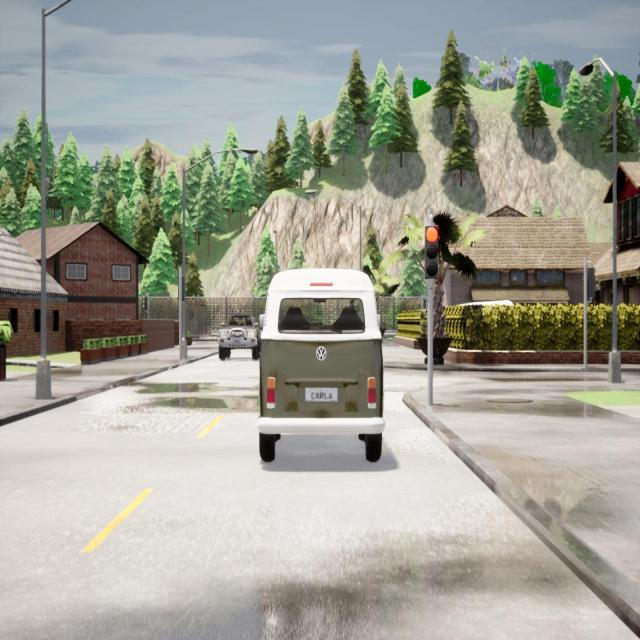Vehicle: (258, 268, 384, 461), (219, 315, 259, 361)
traffic_light: (425, 227, 439, 279), (178, 275, 185, 301), (142, 296, 148, 310)
